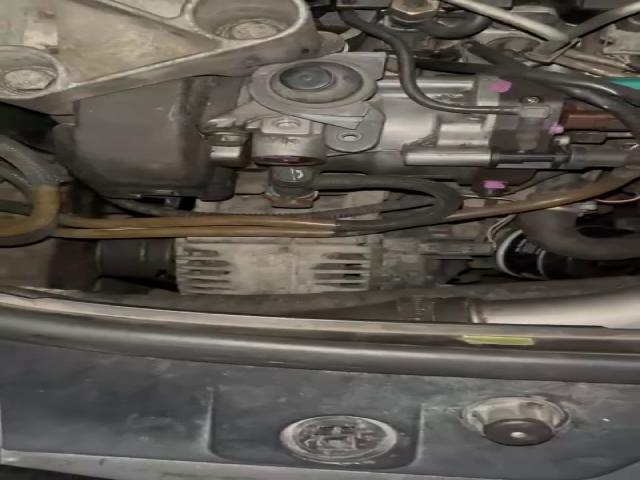alternator: (171, 222, 500, 297)
high_pressure_pump: (214, 72, 622, 197)
